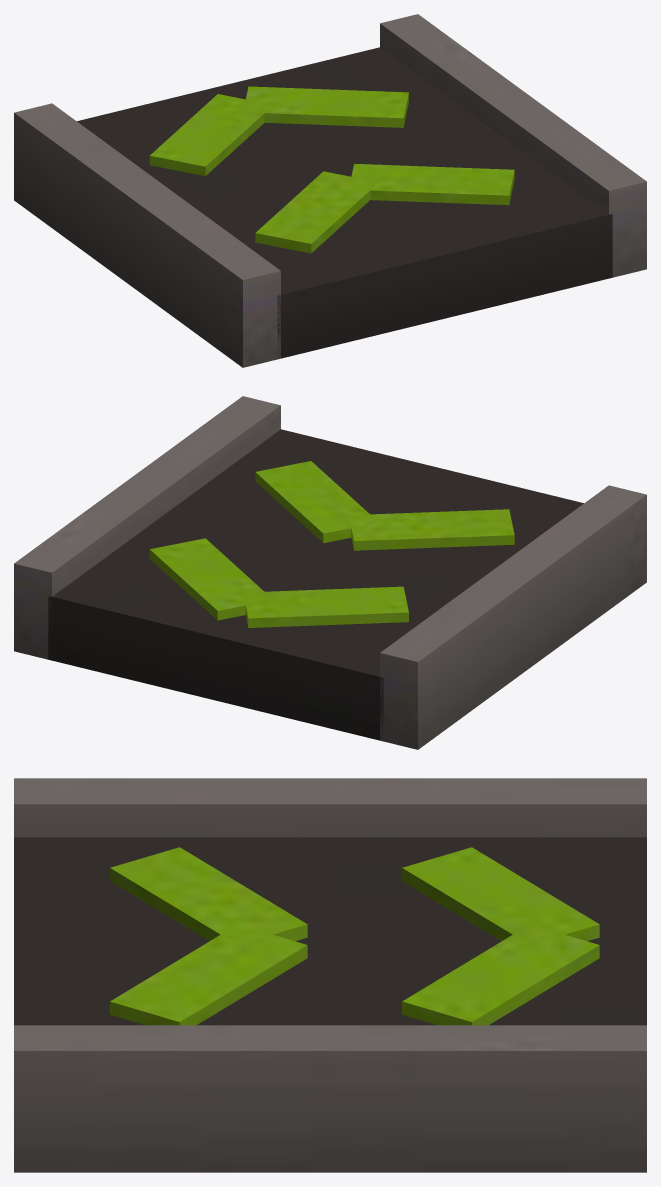
The model's file is turbo-transport-belt.glb.
3 renders of one model, top to bottom at view 1: azimuth 30°, elevation 25°; view 2: azimuth 150°, elevation 25°; view 3: azimuth 270°, elevation 25°, orthographic. The views are drawn at different scales.
Visible parts, largest first — view 1: turbo-transport-belt; view 2: turbo-transport-belt; view 3: turbo-transport-belt.
Part boxes in pixels (<box>): turbo-transport-belt: <box>14,14,646,367</box>; turbo-transport-belt: <box>14,396,646,749</box>; turbo-transport-belt: <box>14,778,646,1172</box>.
Bounding box in the file's own units: 0.265 × 0.055 × 0.26.
Materials: 1 (1 with a texture image).
